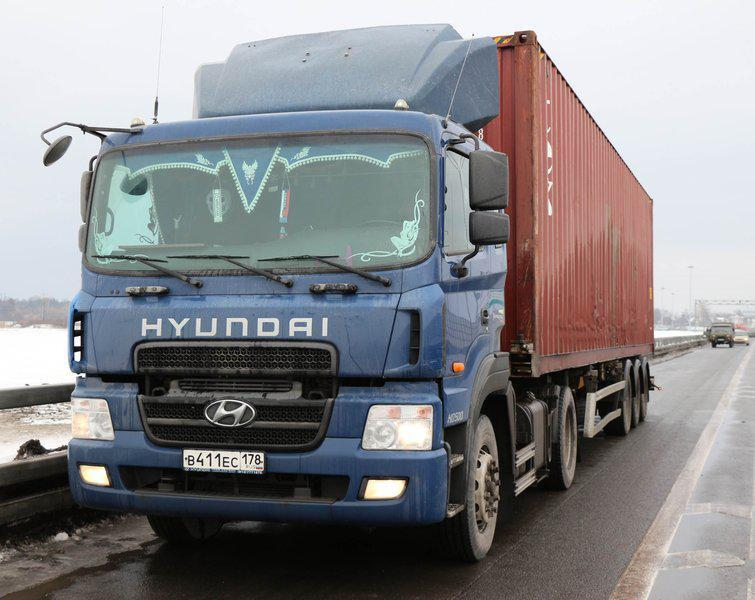car: (708, 323, 734, 349), (733, 328, 750, 345)
truck: (64, 19, 658, 559)
